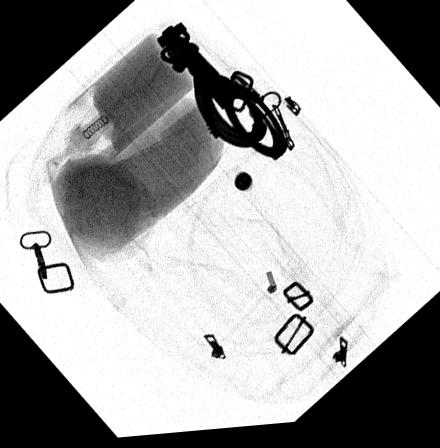HandCuffs: (155, 22, 288, 166)
